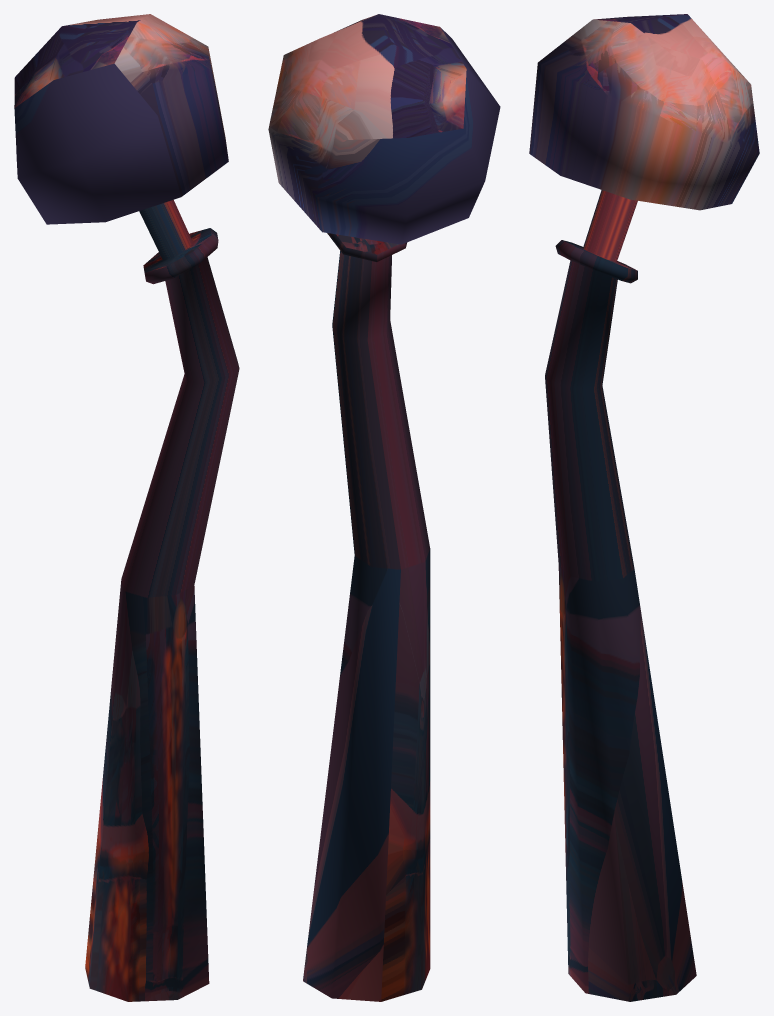
Rendered from mushroom_VAR1_2.fbx.
3 renders of one model, left to right at view 1: azimuth 30°, elevation 25°; view 2: azimuth 150°, elevation 25°; view 3: azimuth 270°, elevation 25°, orthographic.
Parts seen in each view (by area): view 1: Cylinder.002, Cube.001; view 2: Cylinder.002, Cube.001; view 3: Cylinder.002, Cube.001.
Part boxes in pixels (x1,y1,x2,y2): Cylinder.002: (85, 200, 239, 1001); Cube.001: (14, 14, 228, 224); Cylinder.002: (303, 233, 430, 1001); Cube.001: (268, 14, 500, 244); Cylinder.002: (545, 190, 696, 1001); Cube.001: (529, 14, 759, 210).
Bounding box in the file's own units: 230 × 1050 × 232.
